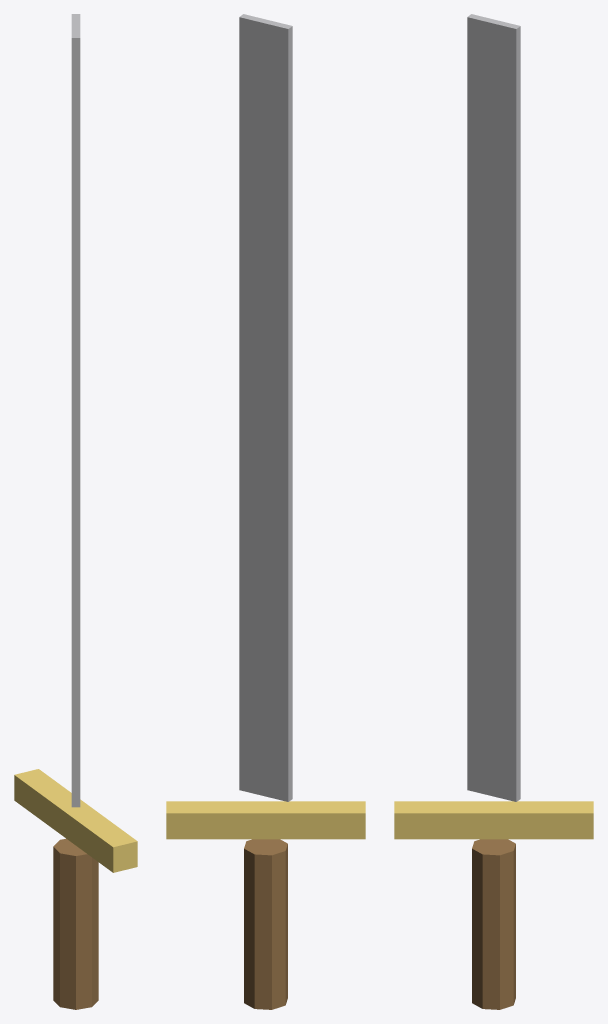
The model's file is ImportCheck.fbx.
3 renders of one model, left to right at view 1: azimuth 90°, elevation 25°; view 2: azimuth 150°, elevation 25°; view 3: azimuth 330°, elevation 25°, orthographic.
Visible parts, largest first — view 1: ImportCheck_Body, ImportCheck_Guard; view 2: ImportCheck_Body, ImportCheck_Guard; view 3: ImportCheck_Body, ImportCheck_Guard.
Part boxes in pixels (<box>): ImportCheck_Body: <box>53,14,98,1009</box>; ImportCheck_Guard: <box>14,769,137,872</box>; ImportCheck_Body: <box>239,14,292,1009</box>; ImportCheck_Guard: <box>166,801,365,839</box>; ImportCheck_Body: <box>467,14,520,1009</box>; ImportCheck_Guard: <box>394,801,593,839</box>.
Size of the model in its own units: 0.1312 by 0.0873 by 0.76.
